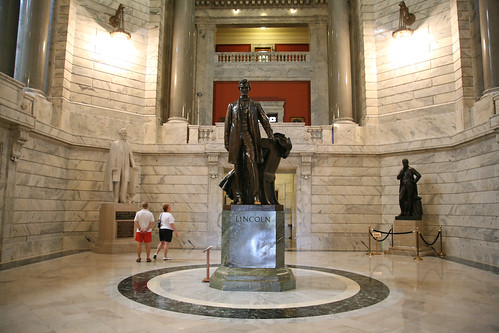person: (131, 200, 156, 264), (153, 202, 179, 262)
person-like: (222, 77, 276, 207), (106, 126, 138, 204), (394, 157, 424, 219)
